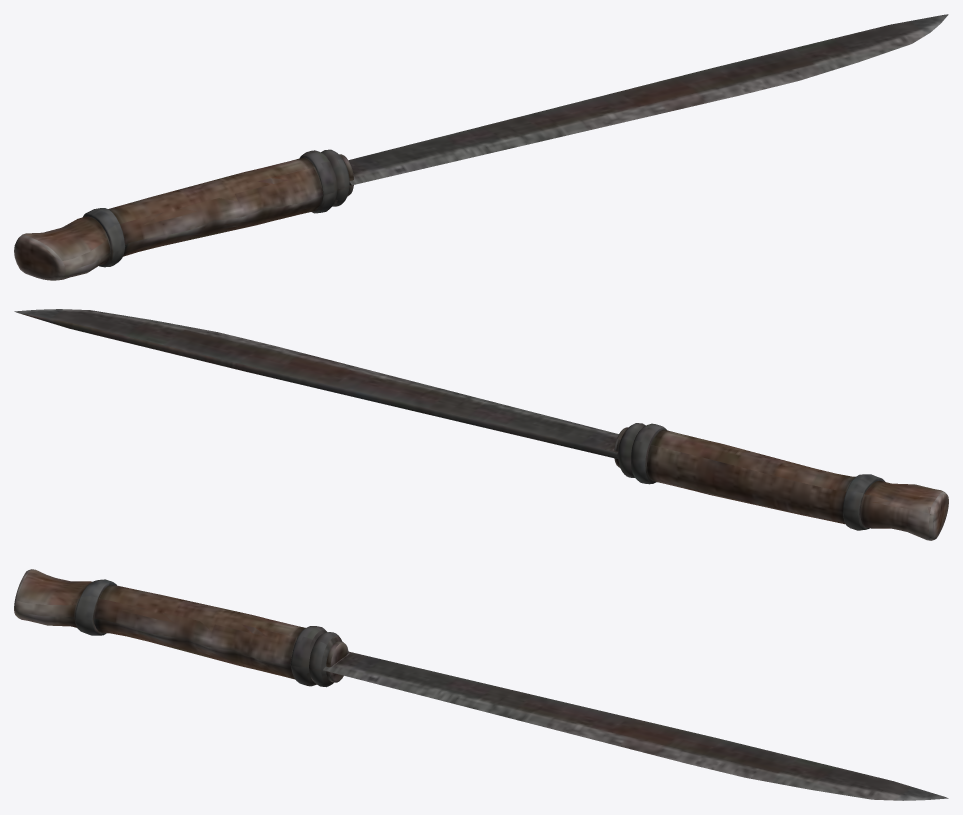
The model's file is machete.glb.
3 views of the same model, one above another, from view 1: azimuth 30°, elevation 25°; view 2: azimuth 150°, elevation 25°; view 3: azimuth 330°, elevation 25° (orthographic). The views are drawn at different scales.
Parts seen in each view (by area): view 1: machete; view 2: machete; view 3: machete.
Boxes of the visible parts, bbox=[...] form: machete: bbox=[14, 14, 948, 280]; machete: bbox=[14, 309, 948, 540]; machete: bbox=[14, 569, 948, 800].
Size of the model in its own units: 0.65 by 0.0382 by 0.0526.
1 material, 1 textured.
